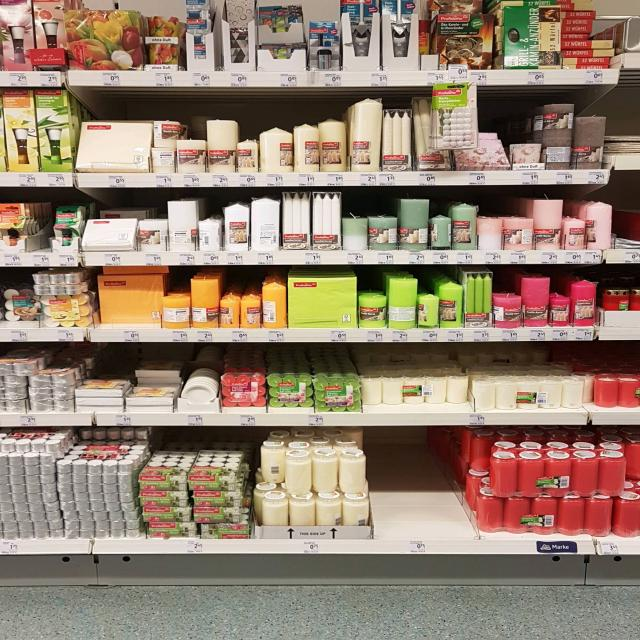void: (376, 429, 463, 538)
